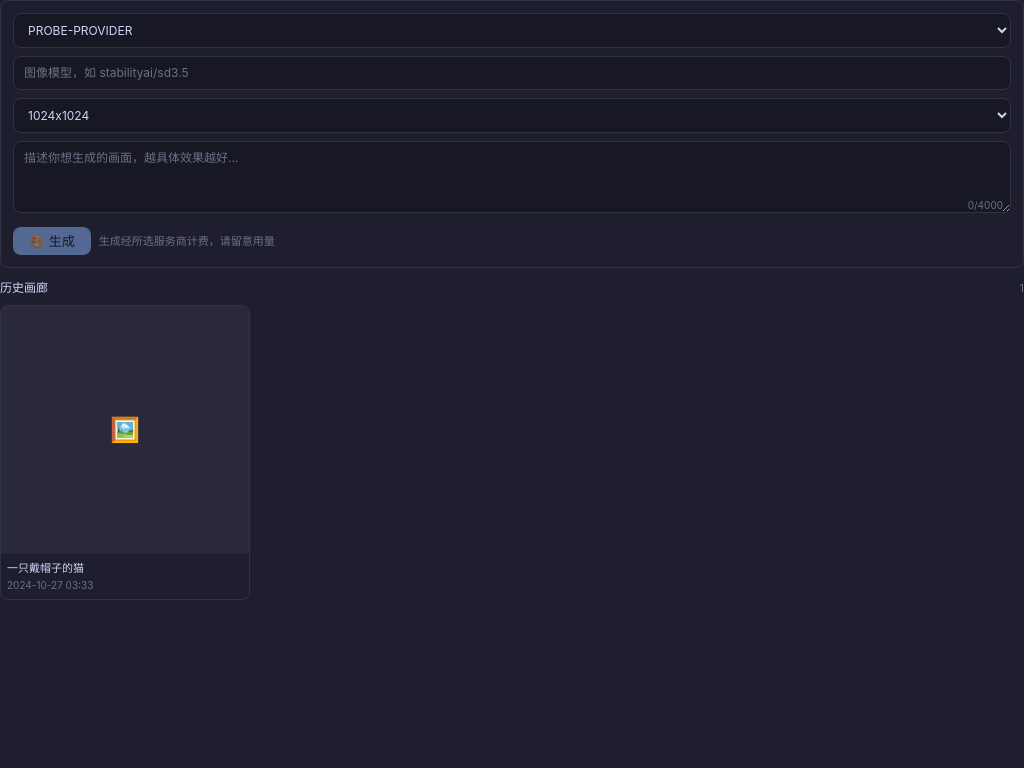
绘图页·预览：读不到那张脸只有一颗「关闭」陪它 ⇒ 键按下去真再发一发 getImageFile › 失败脸上有键 ⇒ 按下去真多发一发 ⇒ 那句撤、图上屏
Step 1. Click the text "一只戴帽子的猫" → (46, 568), box [7,560,84,574]
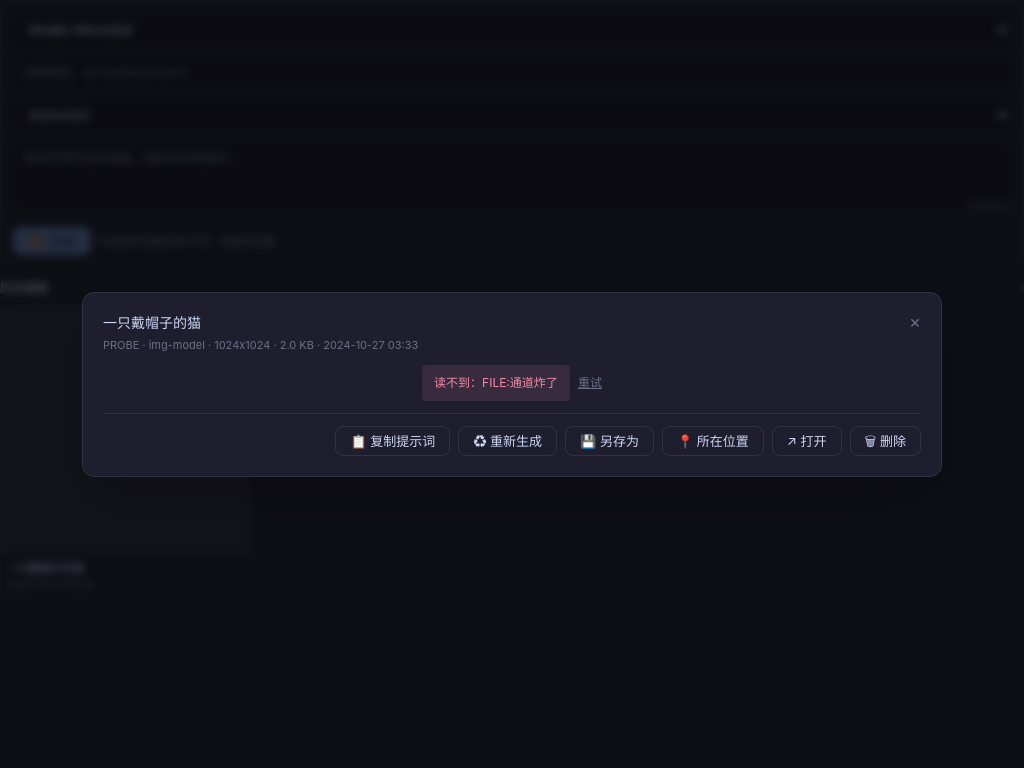
Expected: the message does not show "重试"
Expected: the button with test id "image-preview-read-retry" reads "重试"
Step 2. Click the button with test id "image-preview-read-retry" → (590, 383), box [578,375,602,391]
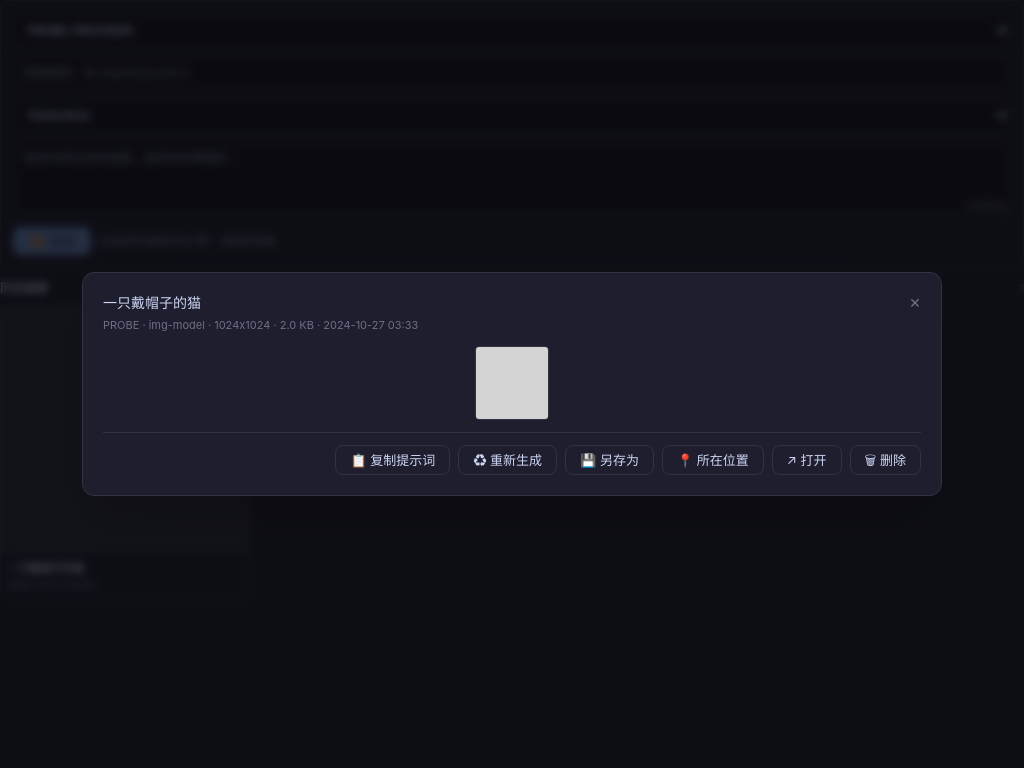
Expected: the button with test id "image-preview-read-retry" is gone
